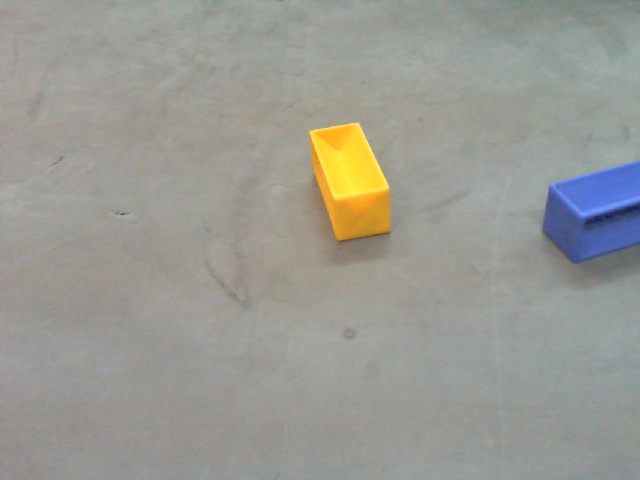BlueSample: (542, 155, 640, 273)
YellowSample: (306, 120, 396, 246)
